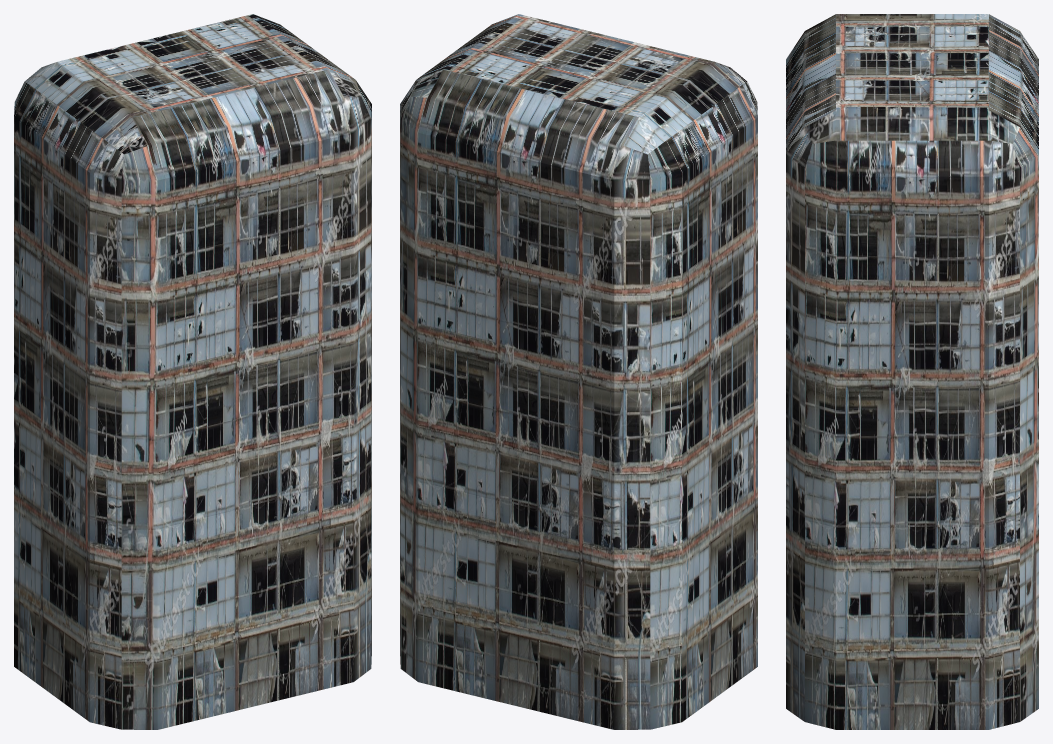
Rendered from Build3.fbx.
The picture shows the model from 3 angles, left to right: view 1: azimuth 30°, elevation 25°; view 2: azimuth 150°, elevation 25°; view 3: azimuth 270°, elevation 25°; orthographic projection.
Visible parts, largest first — view 1: Box002; view 2: Box002; view 3: Box002.
Part boxes in pixels (bbox=[...]): Box002: bbox=[14, 14, 371, 729]; Box002: bbox=[400, 14, 757, 729]; Box002: bbox=[786, 14, 1038, 729].
Bounding box in the file's own units: 28.2 × 56.8 × 21.74.
1 material, 1 textured.
